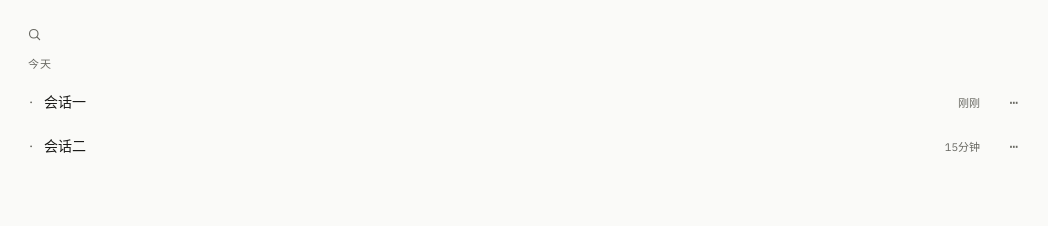
it: SessionList（会话列表） › search expands below context, focuses, protects IME and clears on either exit
Click the button named "搜索会话": (34, 34) [12,12,56,56]
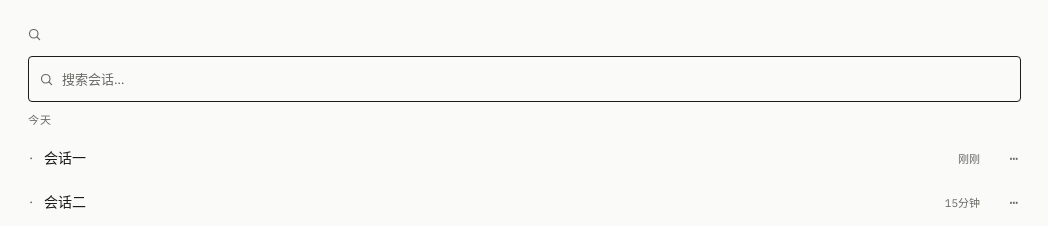
In the field with test id "session-search": (537, 79) [62,57,1012,101], type "会话二"
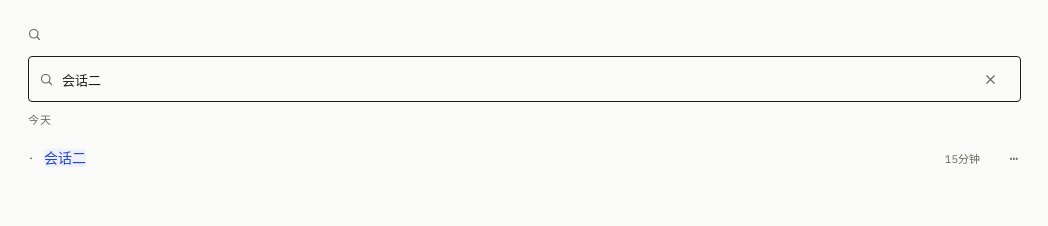
Result: the button with test id "session-s1" is gone
Press Escape in the field with test id "session-search", box [62,57,960,101]
Press Escape in the field with test id "session-search", box [62,57,960,101]
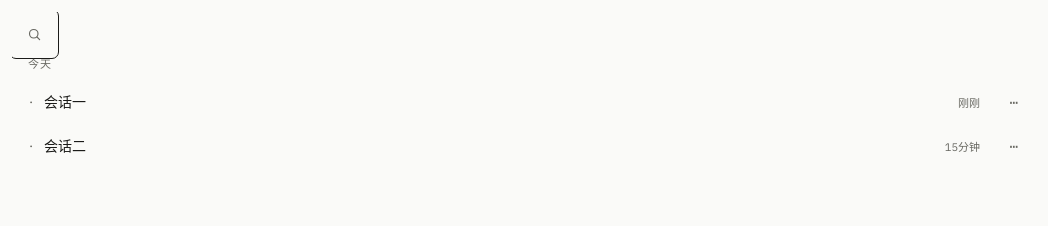
Result: the button with test id "session-s1" is shown at [12,84,992,118]
Click the button named "搜索会话": (34, 34) [12,12,56,56]
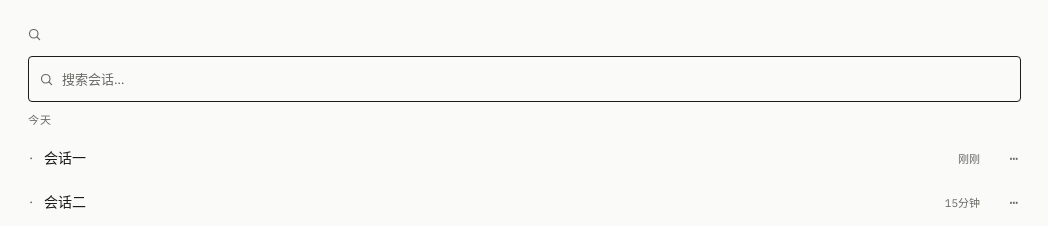
In the field with test id "session-search": (537, 79) [62,57,1012,101], type "会话二"
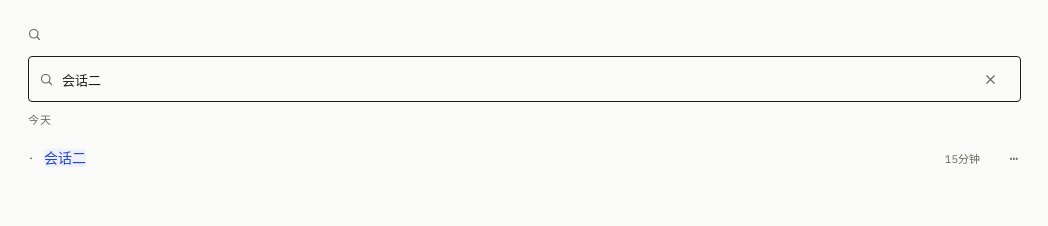
Result: the button with test id "session-s1" is gone
Press Escape in the field with test id "session-search", box [62,57,960,101]
Click the button named "搜索会话": (34, 34) [12,12,56,56]
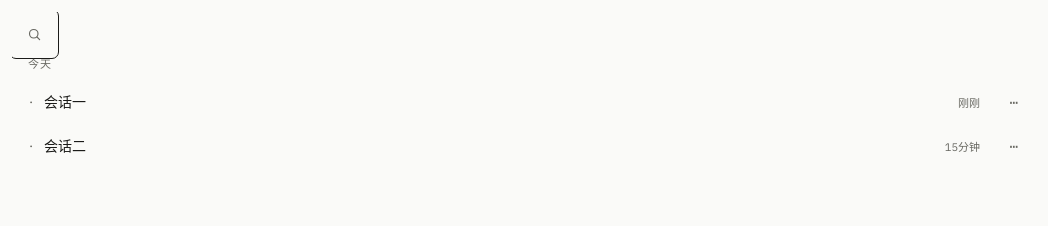
Result: the button with test id "session-s1" is shown at [12,84,992,118]
